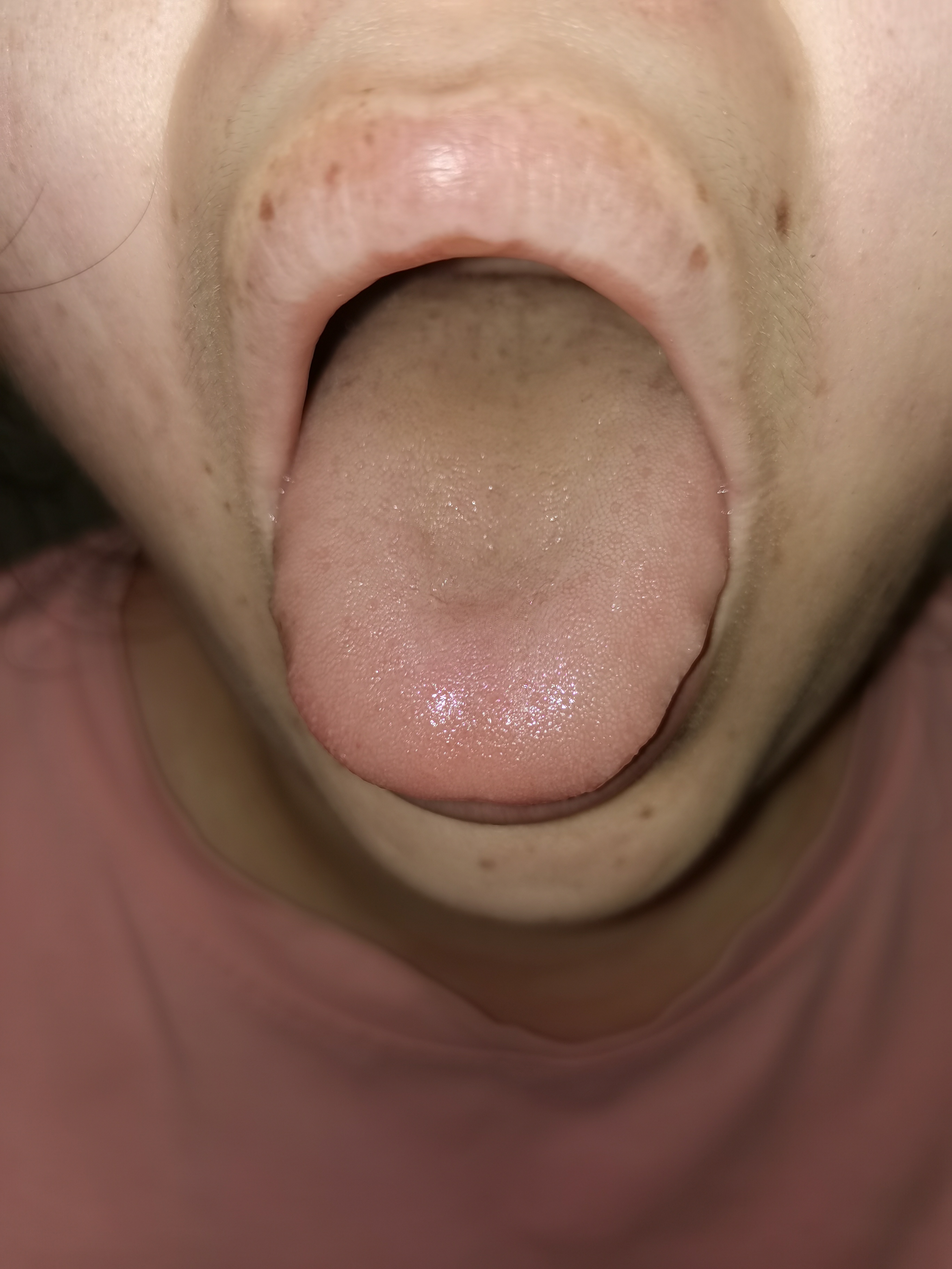huangtaishe: (274, 277, 726, 804)
